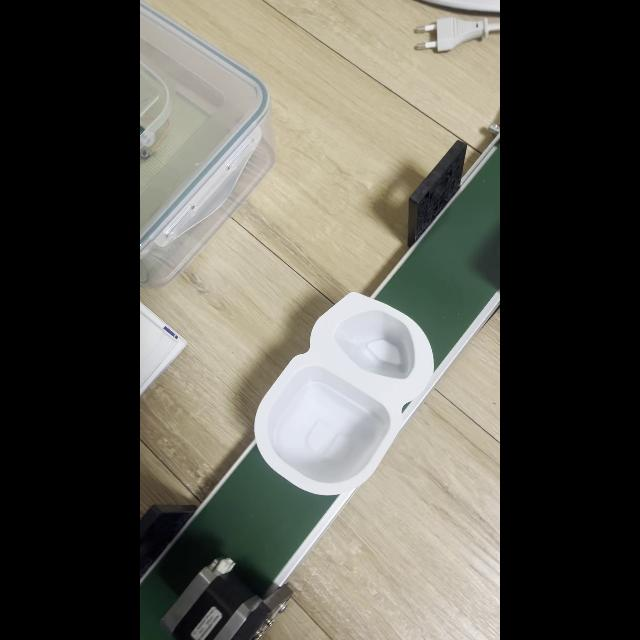clean: (248, 296, 432, 490)
